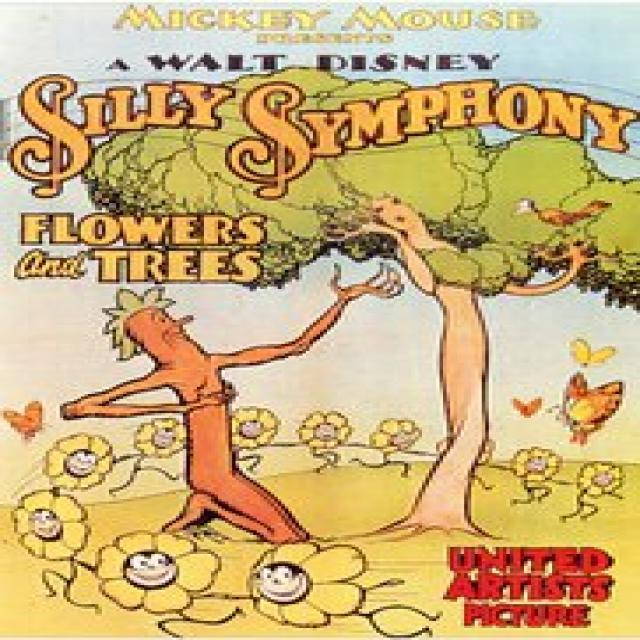movie-judul: (0, 72, 632, 281)
picture: (80, 62, 640, 541)
